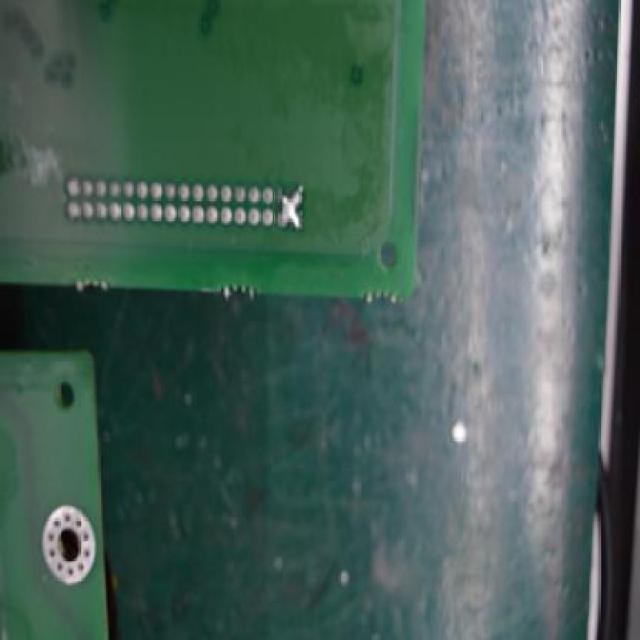Short_circuit: (273, 182, 307, 232)
